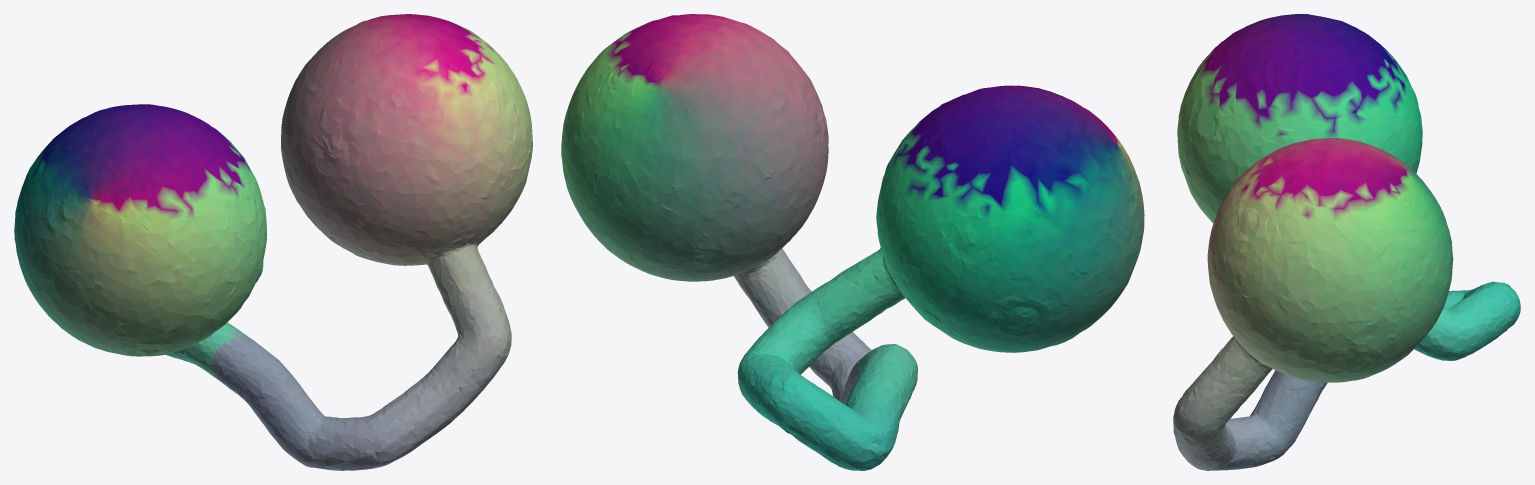
The model's file is twoballs-17.off.obj.
3 views of the same model, side by side, from view 1: azimuth 30°, elevation 25°; view 2: azimuth 150°, elevation 25°; view 3: azimuth 270°, elevation 25° (orthographic). The views are drawn at different scales.
Size of the model in its own units: 1.75 by 1.28 by 1.08.
